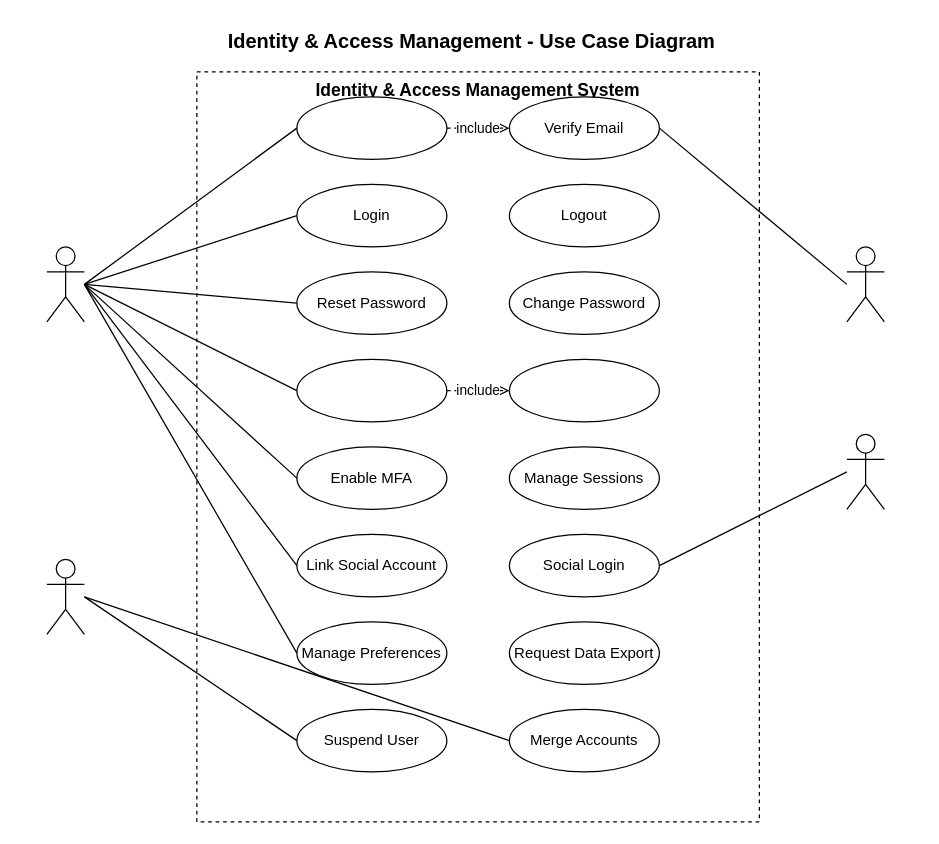
The diagram is 939 pixels wide and 844 high, and some of its shapes have lost their labels. Each missing label, with the centre of its shape:
Administrator: (x=65, y=596)
Email System: (x=865, y=284)
Manage Profile: (x=371, y=390)
OAuth Provider: (x=865, y=471)
Register Account: (x=371, y=127)
Upload Avatar: (x=583, y=390)
User: (x=65, y=284)
